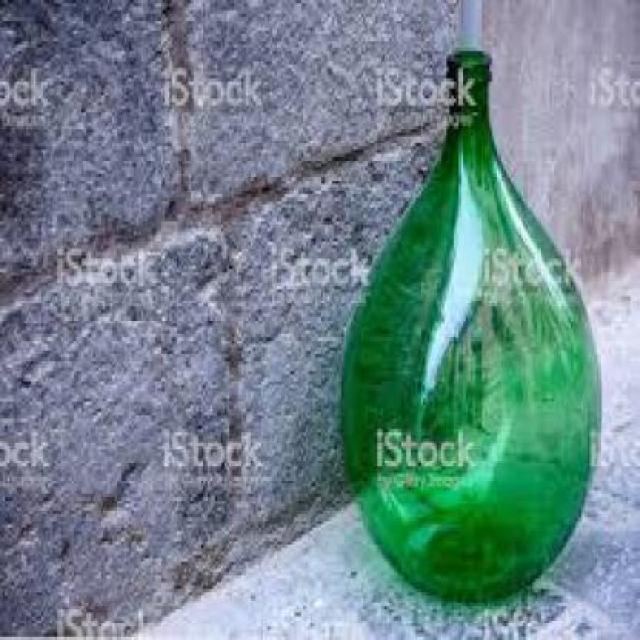kaca: (342, 47, 600, 598)
